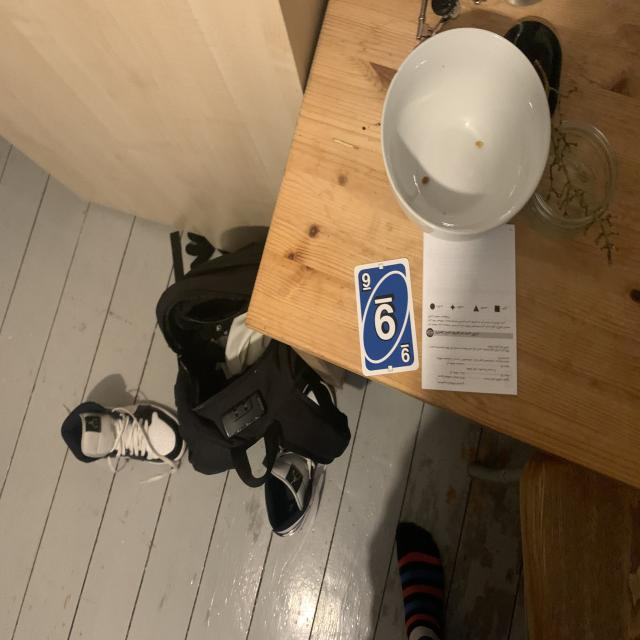lblue-9: (358, 272, 374, 295)
